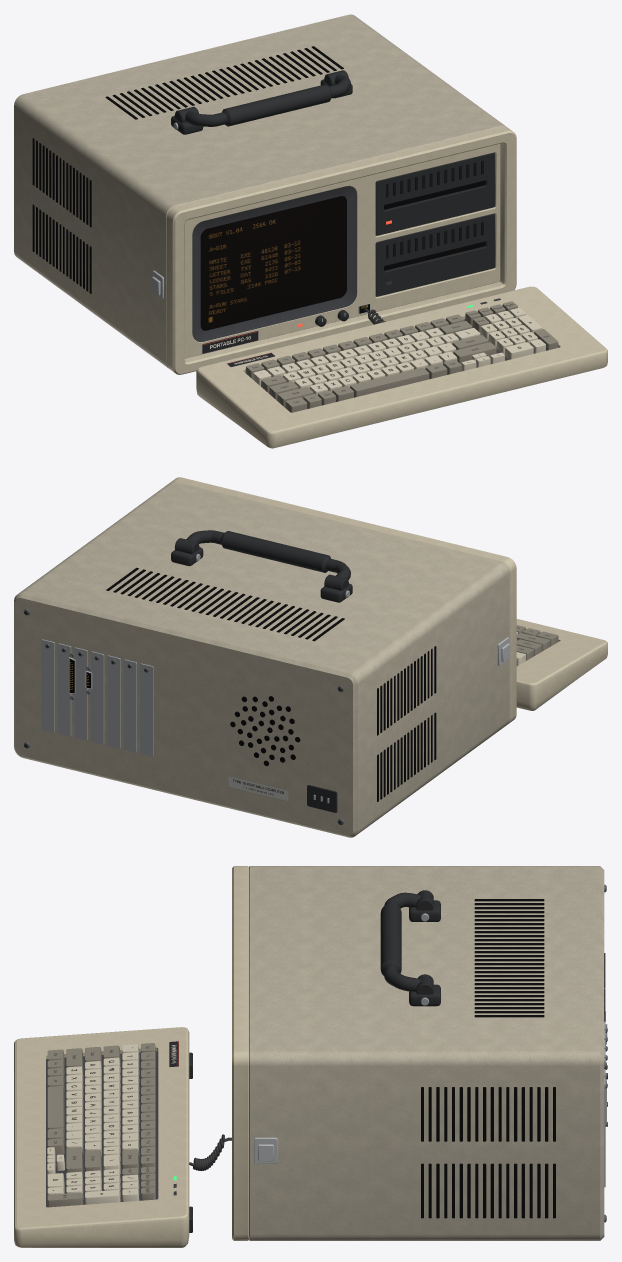
The model's file is 1980s-portable-computer.glb.
The picture shows the model from 3 angles, top to bottom: view 1: azimuth 30°, elevation 25°; view 2: azimuth 150°, elevation 25°; view 3: azimuth 270°, elevation 25°; orthographic projection. The views are drawn at different scales.
Parts seen in each view (by area): view 1: Case, Keyboard, Handle; view 2: Case, Keyboard, Handle; view 3: Case, Keyboard, Handle.
Part boxes in pixels (x1,y1,x2,y2): Case: (14, 14, 516, 374); Keyboard: (196, 286, 607, 448); Handle: (174, 70, 350, 126); Case: (14, 477, 516, 837); Keyboard: (516, 619, 607, 710); Handle: (174, 530, 350, 590); Case: (232, 866, 607, 1240); Keyboard: (14, 1027, 192, 1247); Handle: (380, 890, 433, 994).
Bounding box in the file's own units: 0.4704 × 0.2459 × 0.5968.
Materials: 20 (6 with a texture image).
